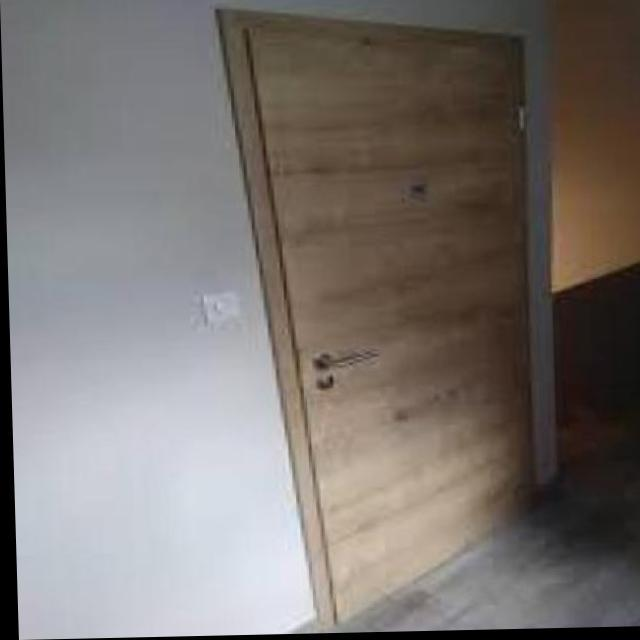door_handle: (305, 343, 386, 377)
